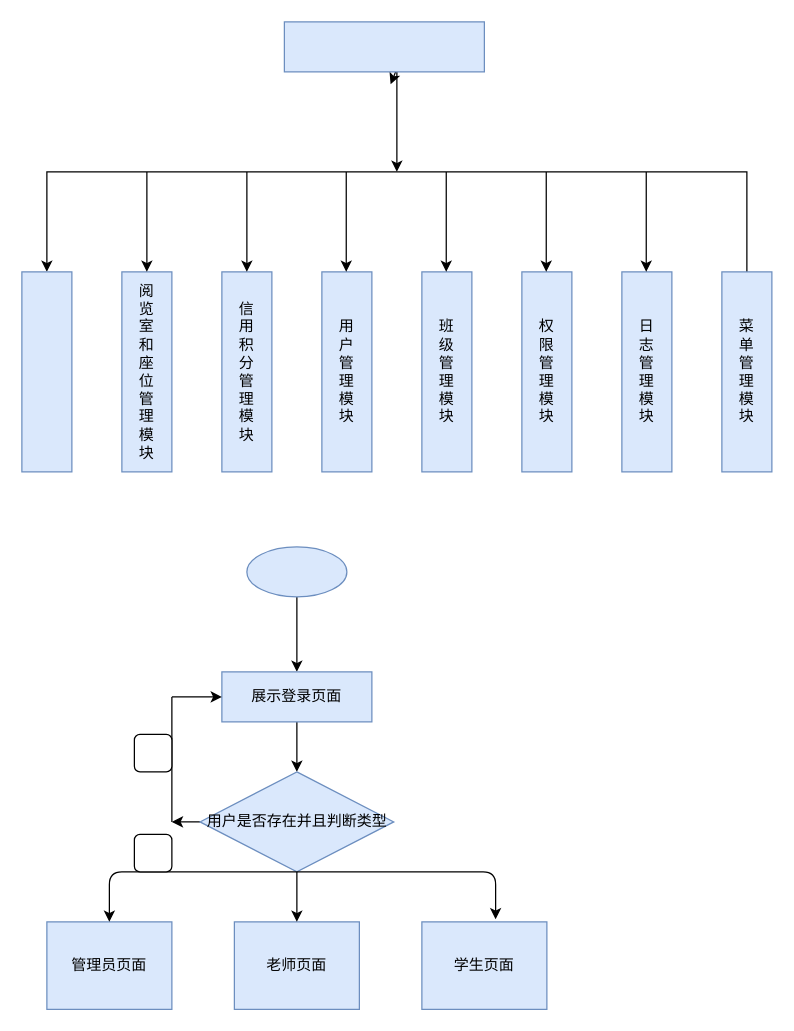
Some shapes in this 794 by 1031 pixel diagram are drawn without their labels. The shapes that lost their labels are listed below. From the top down, each one's box as (x1, y1, x2, y2) in pixels, then its label:
(283, 21, 484, 72): 图书馆座位预约管理系统
(21, 271, 72, 472): 登 录 系 统 模 块
(246, 546, 347, 597): 开始
(133, 733, 172, 772): NO
(133, 833, 172, 872): YES
